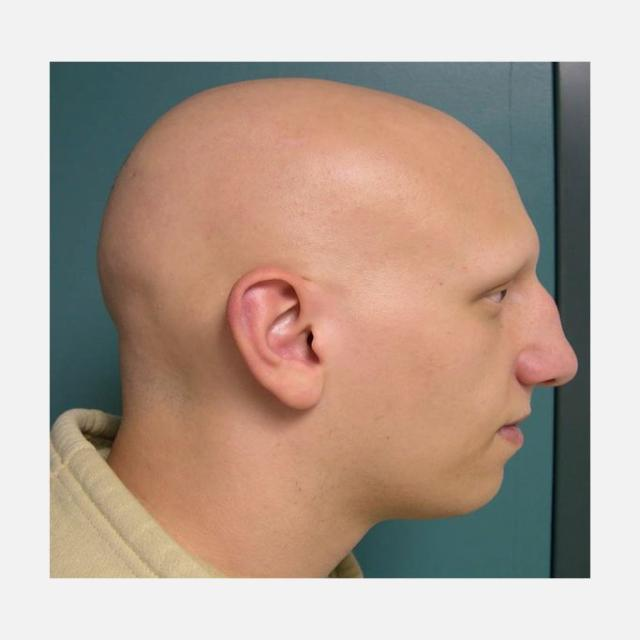no_helmet: (86, 63, 558, 355)
